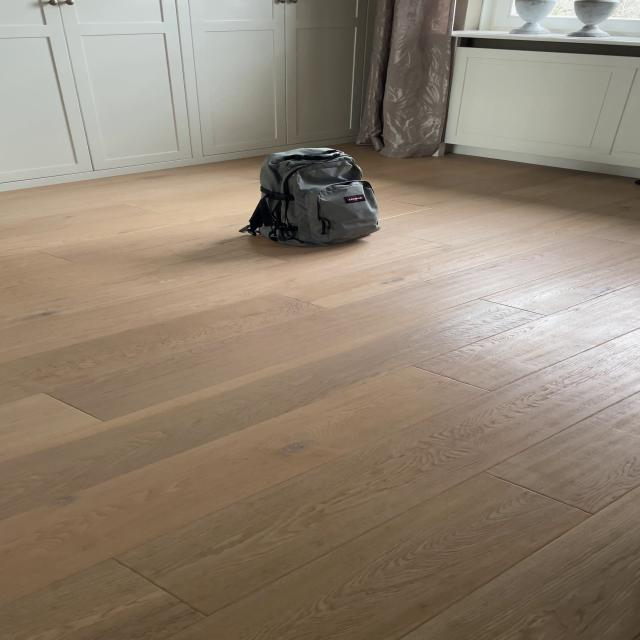backpack: (239, 143, 386, 250)
